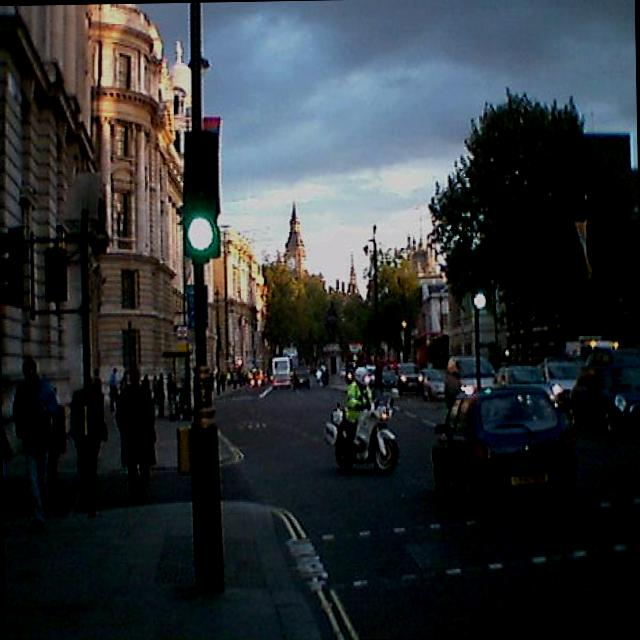Vehicle: (430, 380, 580, 516), (318, 394, 401, 476), (566, 359, 640, 437), (492, 366, 559, 408), (538, 358, 578, 406), (410, 331, 450, 369), (418, 368, 446, 401), (397, 362, 420, 395), (292, 368, 310, 390), (381, 368, 398, 388), (272, 372, 290, 390)
